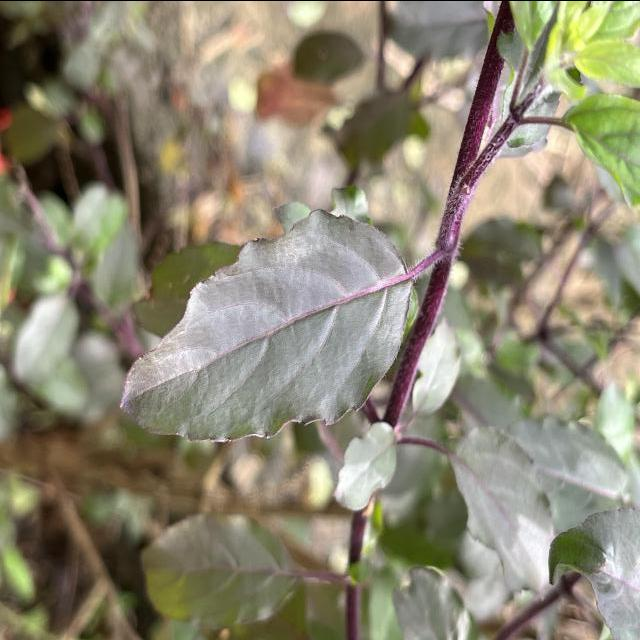Ocimum tenuiflorum: (116, 204, 414, 443)
